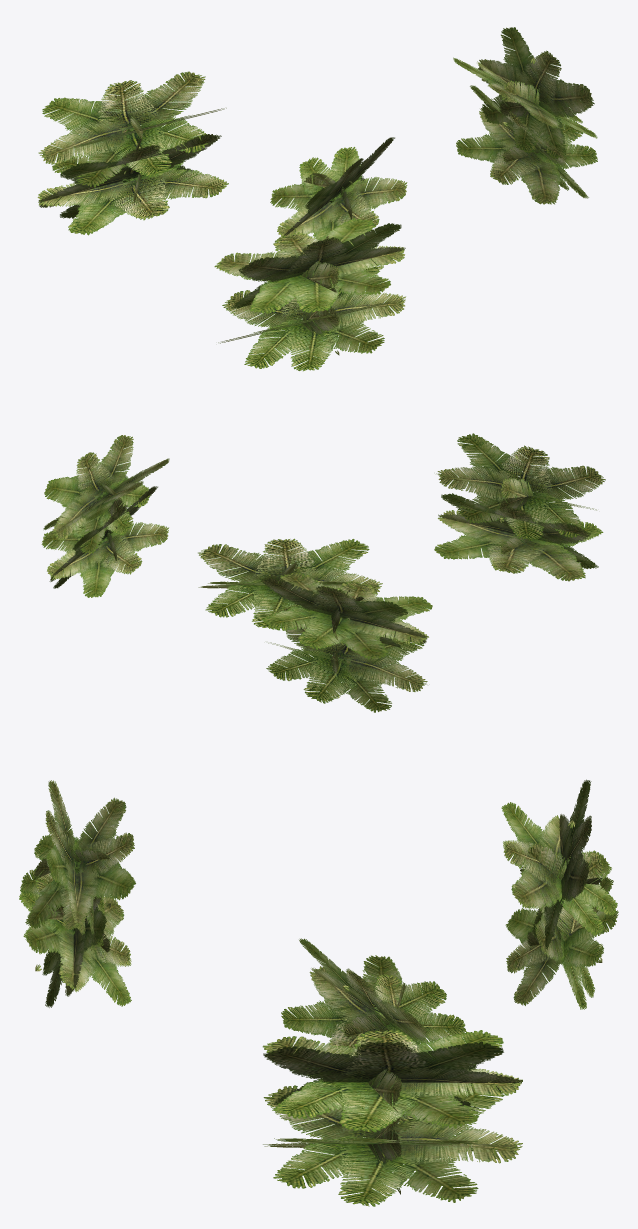
File: prop_farmstead.dae
3 renders of one model, top to bottom at view 1: azimuth 30°, elevation 25°; view 2: azimuth 150°, elevation 25°; view 3: azimuth 270°, elevation 25°, orthographic. The views are drawn at different scales.
Visible parts, largest first — view 1: prop_farmstead; view 2: prop_farmstead; view 3: prop_farmstead.
Part boxes in pixels (x1=…): prop_farmstead: x1=37, y1=27, x2=597, y2=371; prop_farmstead: x1=41, y1=433, x2=605, y2=712; prop_farmstead: x1=19, y1=779, x2=618, y2=1206.
Bounding box in the file's own units: 14.9 × 13.04 × 4.07.
1 material, 1 textured.
